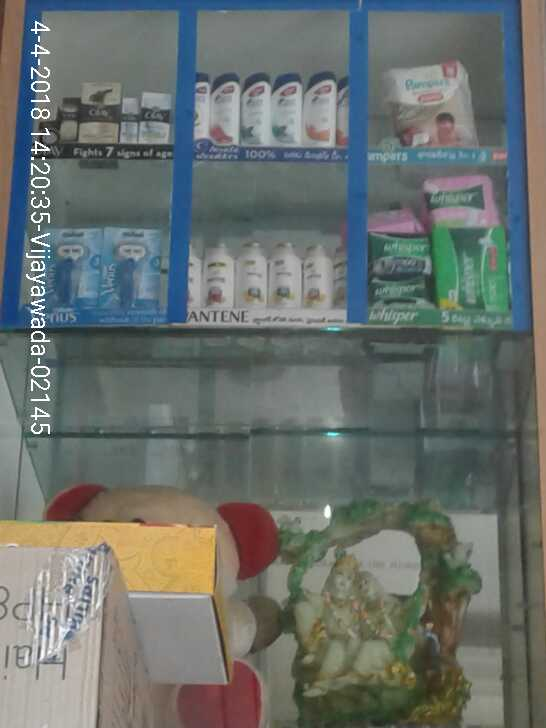venus: (97, 227, 164, 324), (29, 226, 96, 323)
